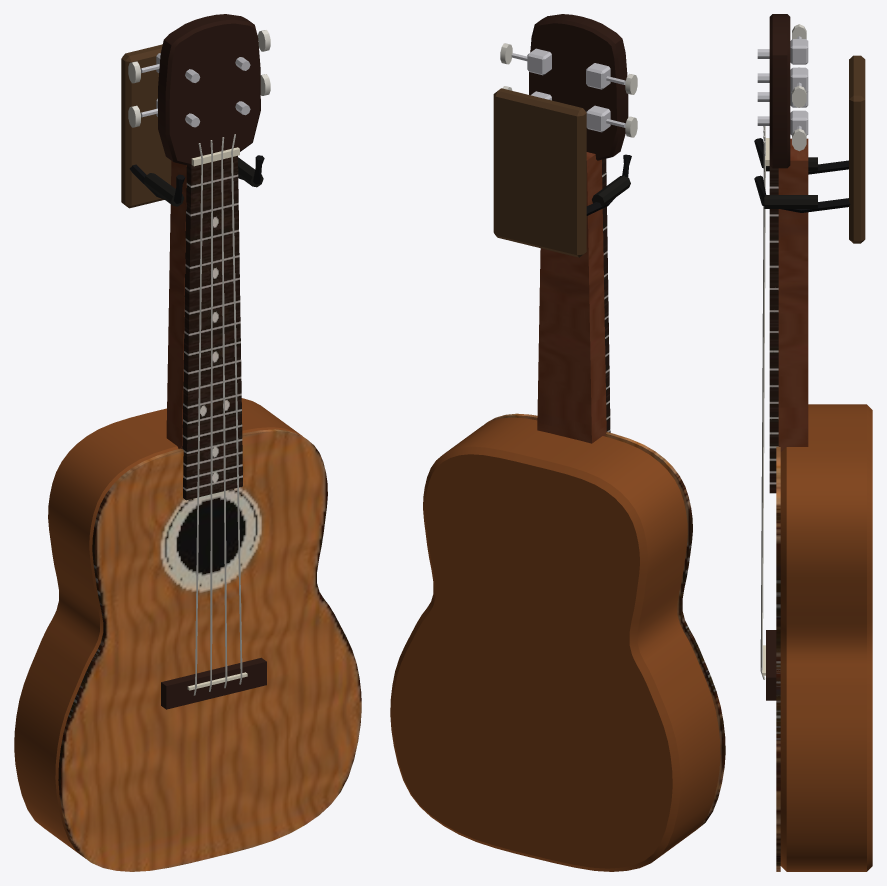
Rendered from ukulele.glb.
3 views of the same model, side by side, from view 1: azimuth 30°, elevation 25°; view 2: azimuth 150°, elevation 25°; view 3: azimuth 270°, elevation 25° (orthographic). The views are drawn at different scales.
Parts seen in each view (by area): view 1: ukulele; view 2: ukulele; view 3: ukulele.
Part boxes in pixels (bbox=[...]): ukulele: bbox=[14, 14, 361, 871]; ukulele: bbox=[390, 14, 725, 871]; ukulele: bbox=[754, 14, 872, 871].
Size of the model in its own units: 0.2277 by 0.605 by 0.0799.
1 material, 1 textured.
